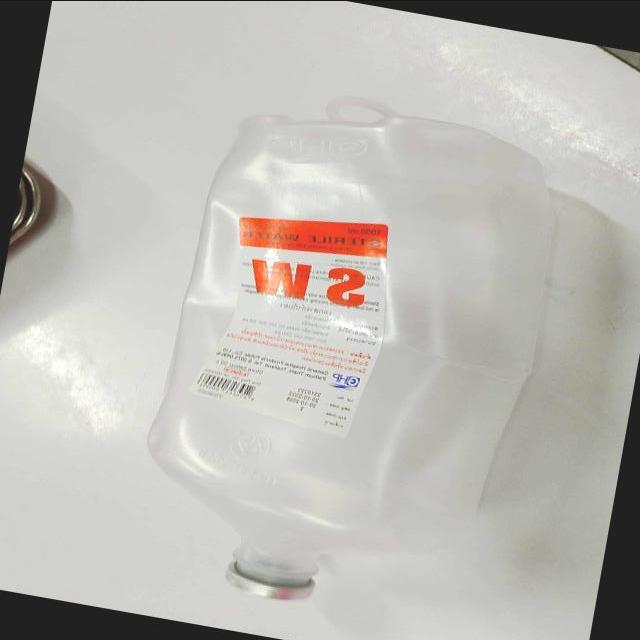General: (189, 213, 390, 438)
Infectious: (144, 102, 555, 599)
